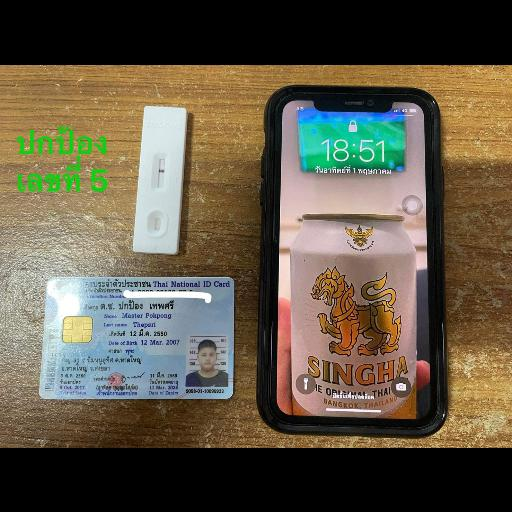Neg: (132, 106, 189, 255)
